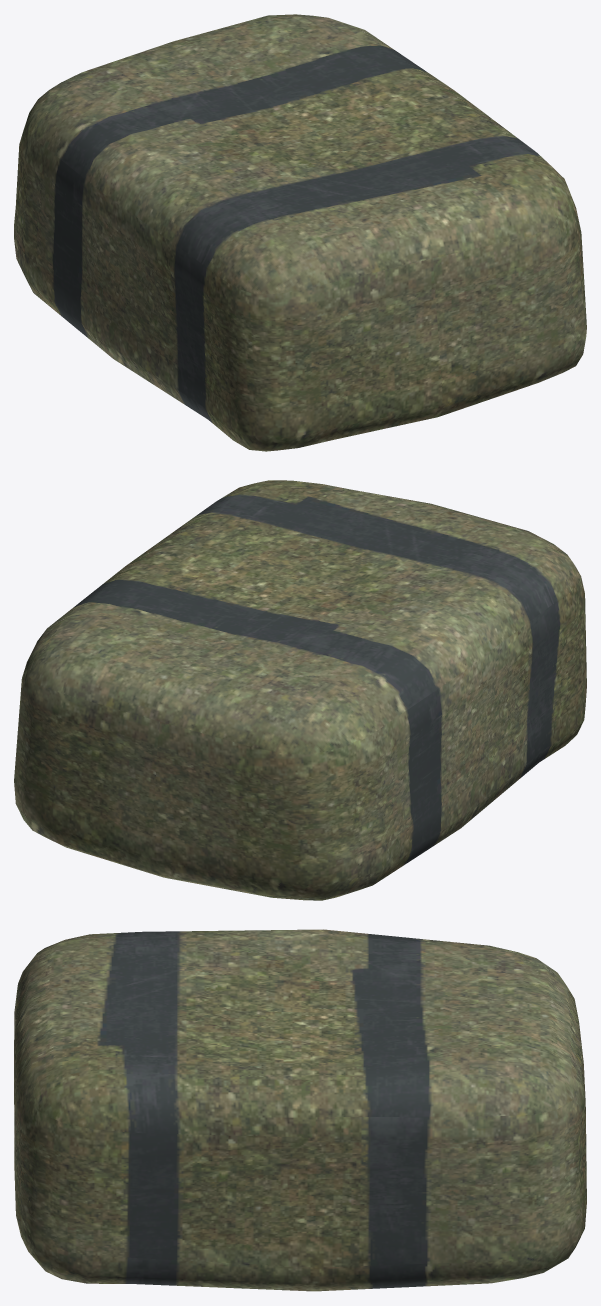
File: weed-brick-strapped.glb
The picture shows the model from 3 angles, top to bottom: view 1: azimuth 30°, elevation 25°; view 2: azimuth 150°, elevation 25°; view 3: azimuth 270°, elevation 25°; orthographic projection. The views are drawn at different scales.
Visible parts, largest first — view 1: Weed Brick2; view 2: Weed Brick2; view 3: Weed Brick2.
Part boxes in pixels (left/top/right/bottom): Weed Brick2: left=14, top=14, right=586, bottom=451; Weed Brick2: left=14, top=480, right=586, bottom=900; Weed Brick2: left=14, top=929, right=586, bottom=1291.
Bounding box in the file's own units: 0.2713 × 0.1519 × 0.3657.
Materials: 1 (1 with a texture image).
